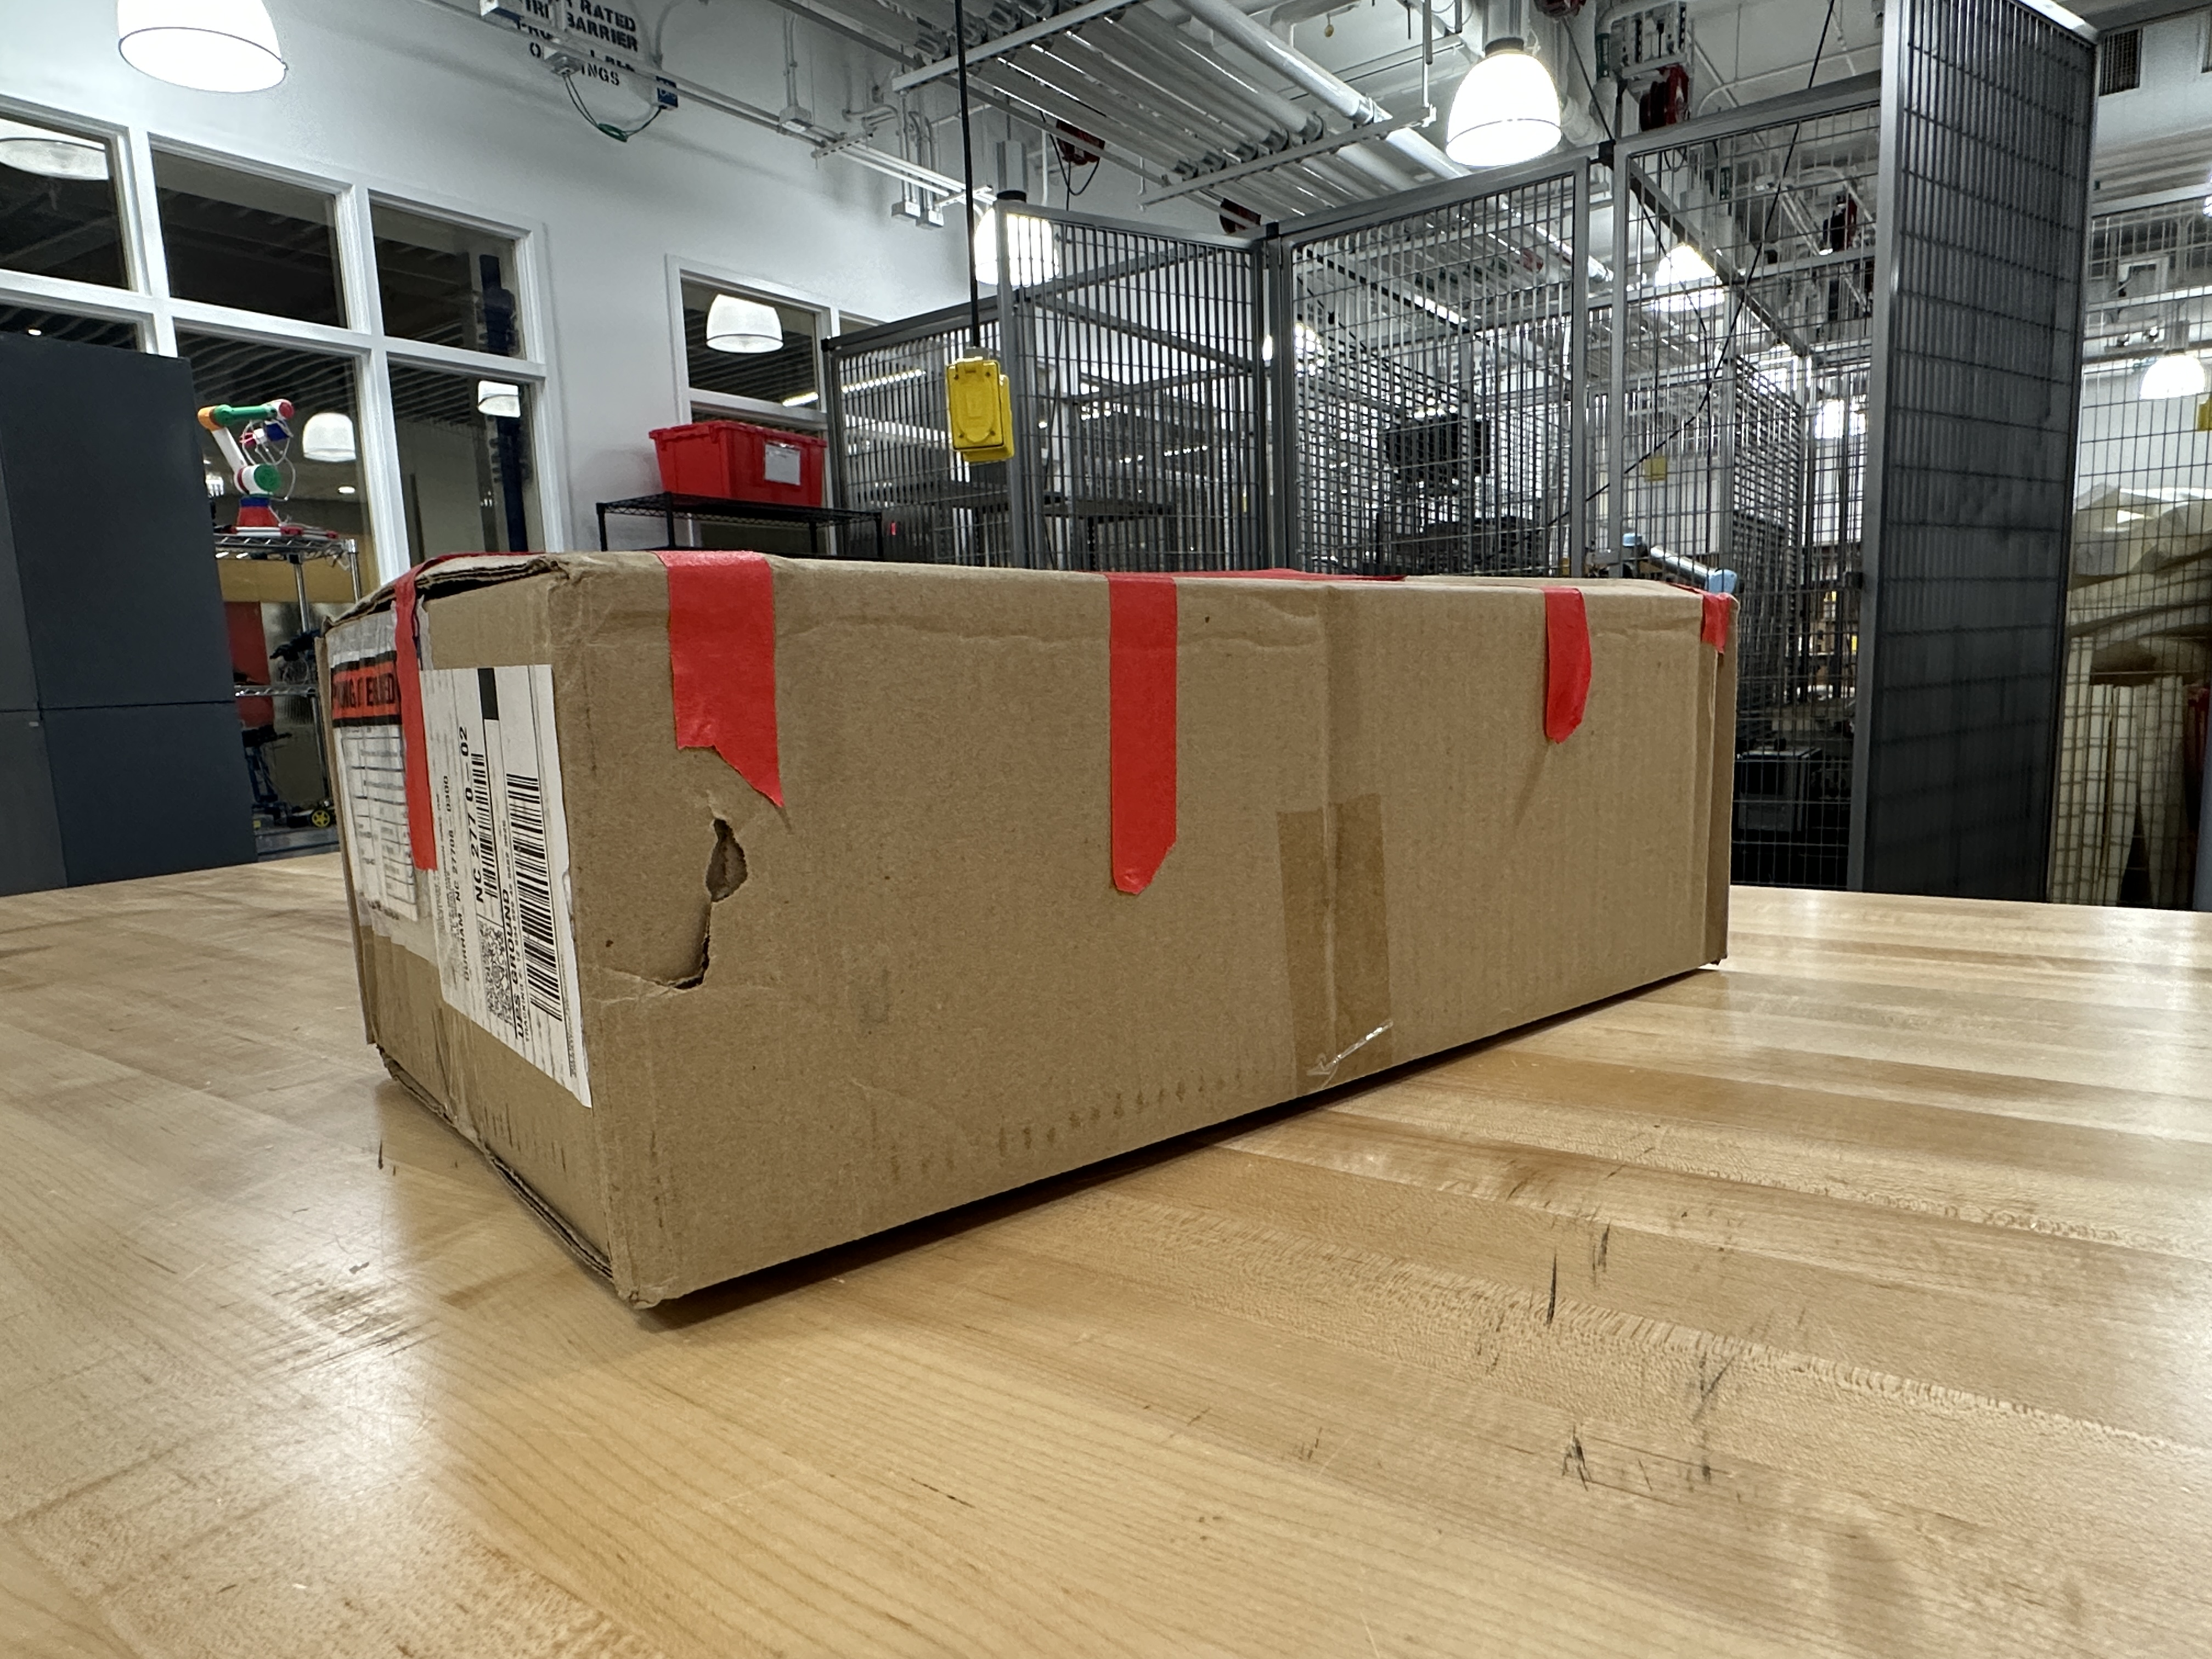Box_Obstacle: (300, 530, 1757, 1351)
